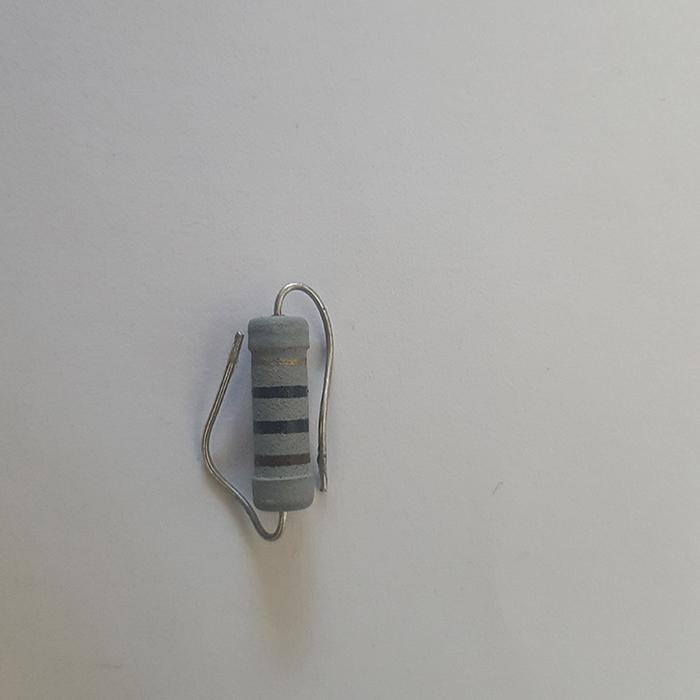resistor: (243, 316, 320, 515)
